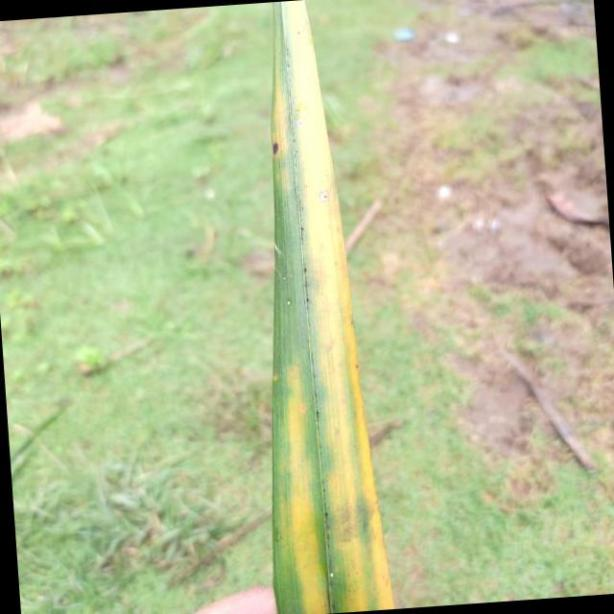Megnesium: (270, 0, 397, 614)
